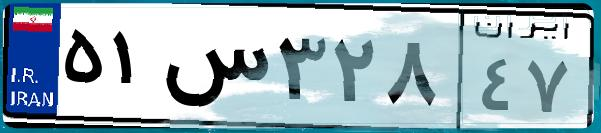1: (110, 28, 158, 98)
2: (330, 28, 385, 110)
3: (270, 28, 330, 110)
4: (475, 38, 525, 113)
5: (57, 26, 110, 100)
7: (525, 38, 570, 115)
8: (385, 28, 445, 110)
س: (158, 20, 270, 120)
